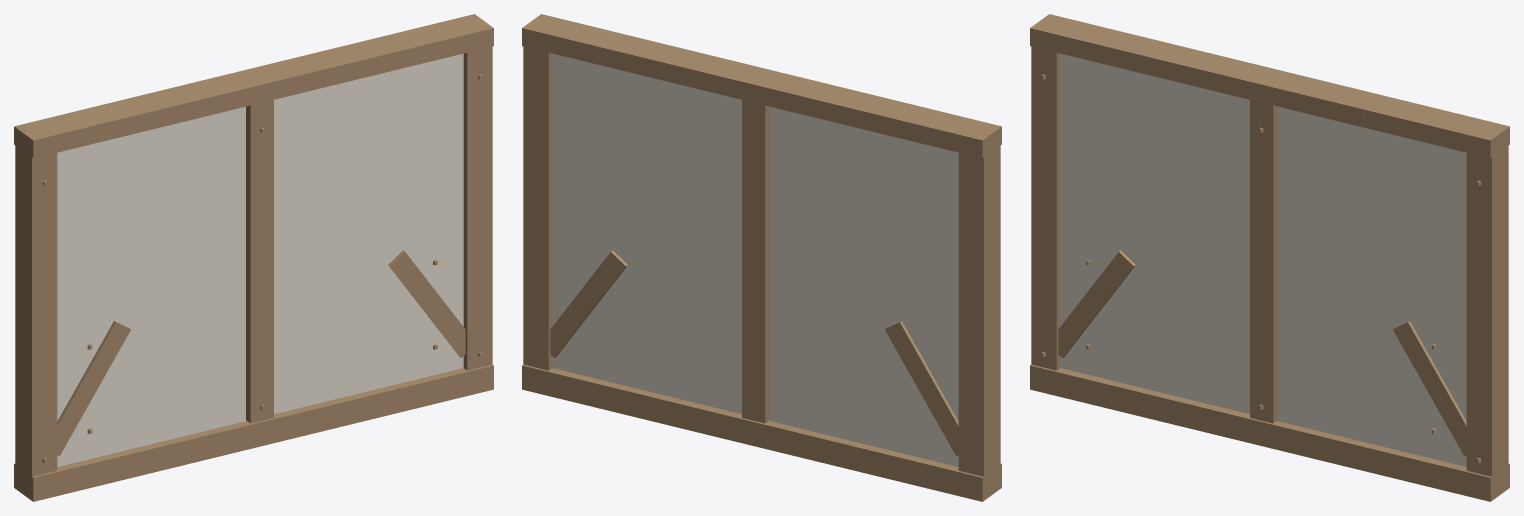
File: armoury-wall-panel.glb
3 views of the same model, side by side, from view 1: azimuth 30°, elevation 25°; view 2: azimuth 150°, elevation 25°; view 3: azimuth 330°, elevation 25° (orthographic).
Visible parts, largest first — view 1: armoury-wall-panel; view 2: armoury-wall-panel; view 3: armoury-wall-panel.
Boxes of the visible parts, x1,y1,x2,y2 form: armoury-wall-panel: (14,14,493,501); armoury-wall-panel: (522,14,1001,501); armoury-wall-panel: (1030,14,1509,501).
Size of the model in its own units: 4 by 3 by 0.293.
